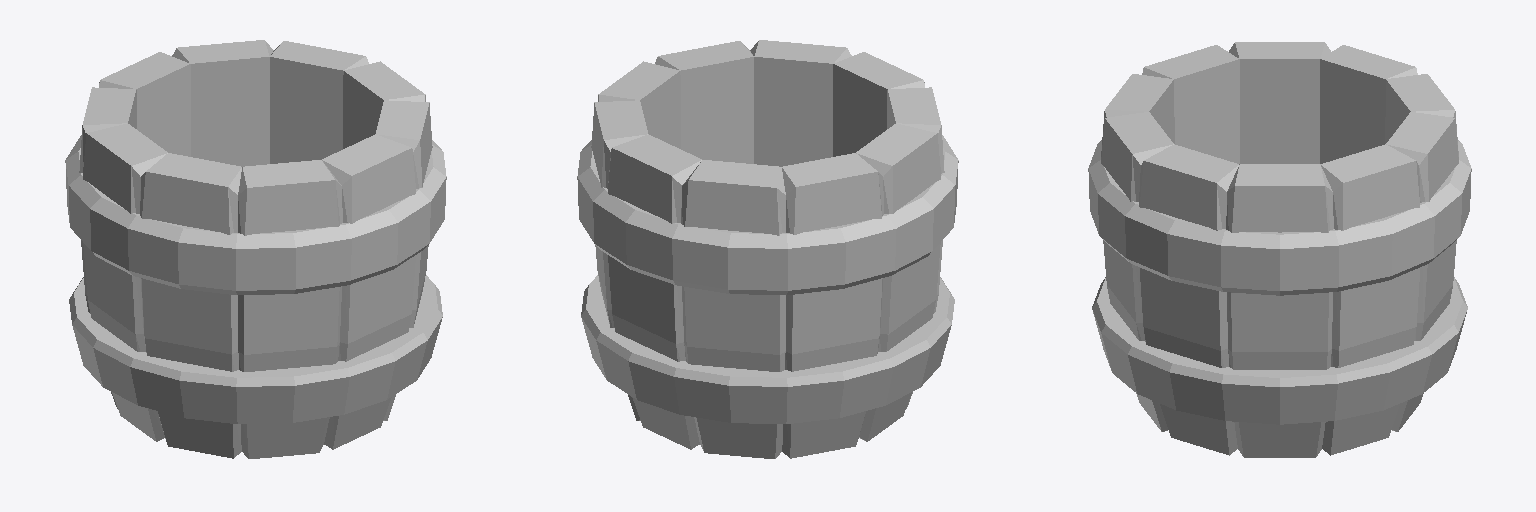
File: bucket.obj
3 views of the same model, side by side, from view 1: azimuth 30°, elevation 25°; view 2: azimuth 150°, elevation 25°; view 3: azimuth 270°, elevation 25° (orthographic).
Visible parts, largest first — view 1: bucket_Cylinder.177; view 2: bucket_Cylinder.177; view 3: bucket_Cylinder.177.
Boxes of the visible parts, x1=… form: bucket_Cylinder.177: x1=65, y1=40, x2=446, y2=458; bucket_Cylinder.177: x1=577, y1=40, x2=958, y2=458; bucket_Cylinder.177: x1=1088, y1=42, x2=1471, y2=457.
Size of the model in its own units: 0.8822 by 0.7327 by 0.8822.